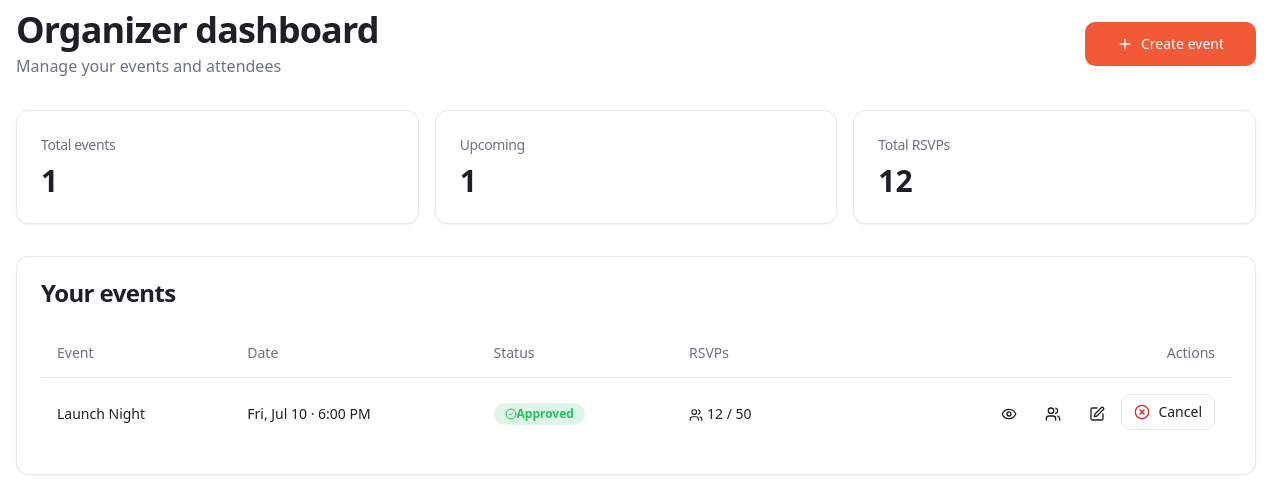
Test case: OrganizerDashboard › cancels events and refreshes the dashboard
The width and height of the screenshot is (1273, 492).
Expected: the text "Launch Night" is shown, [41,377,231,450]
Click the button with aria-label "Cancel event" at (1168, 412), box [1121,394,1215,430]
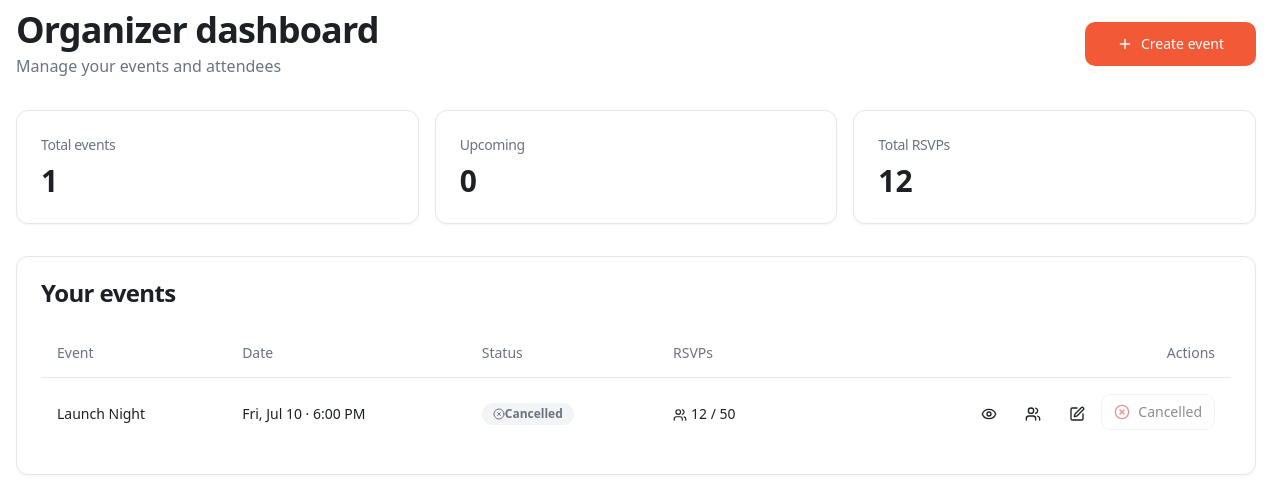
Result: the button with aria-label "Event already cancelled" is disabled at [1101,394,1215,430]
